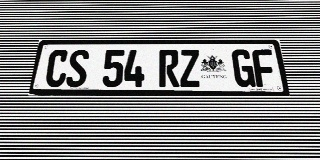4: (123, 50, 145, 87)
5: (102, 50, 125, 87)
C: (44, 50, 70, 87)
F: (251, 49, 277, 87)
G: (231, 49, 256, 87)
R: (159, 50, 179, 87)
S: (65, 50, 90, 87)
Z: (179, 50, 201, 87)
